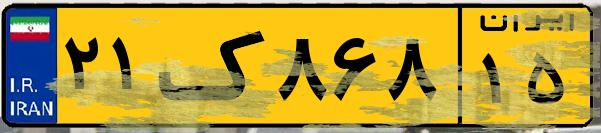1: (475, 38, 525, 113), (110, 28, 158, 98)
2: (57, 26, 110, 100)
5: (525, 38, 570, 115)
6: (330, 28, 385, 110)
8: (270, 28, 330, 110), (385, 28, 445, 110)
ک: (158, 12, 270, 120)
